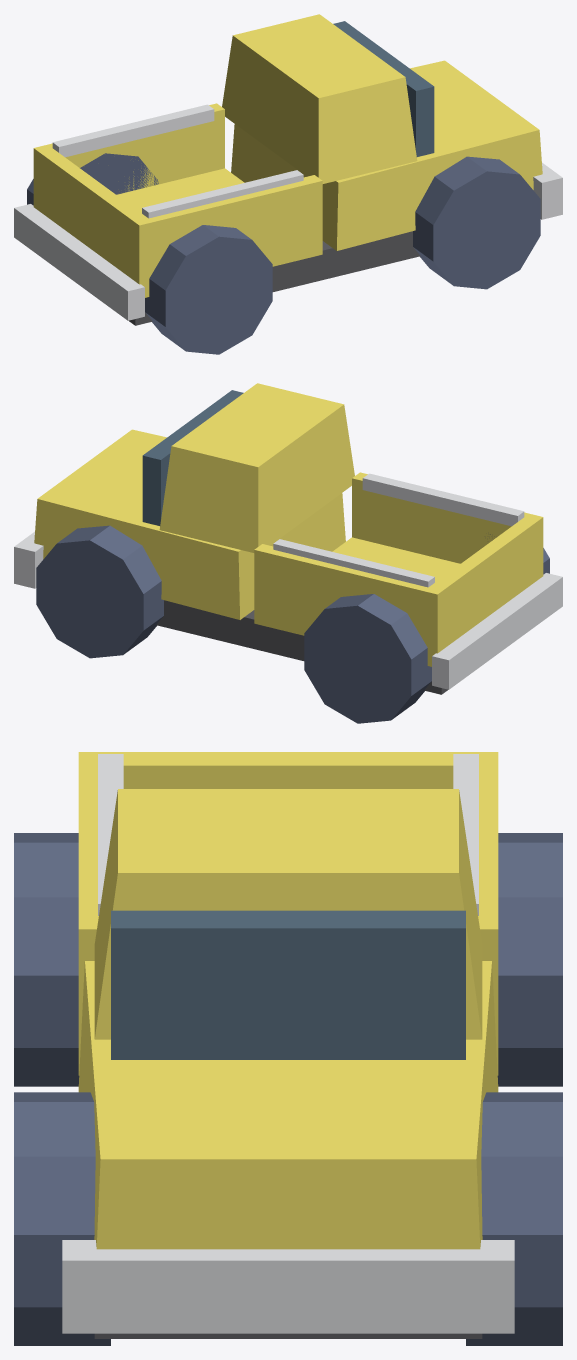
File: car_pickup.glb
The picture shows the model from 3 angles, top to bottom: view 1: azimuth 30°, elevation 25°; view 2: azimuth 150°, elevation 25°; view 3: azimuth 270°, elevation 25°; orthographic projection. The views are drawn at different scales.
Size of the model in its own units: 0.3085 by 0.14 by 0.17.
